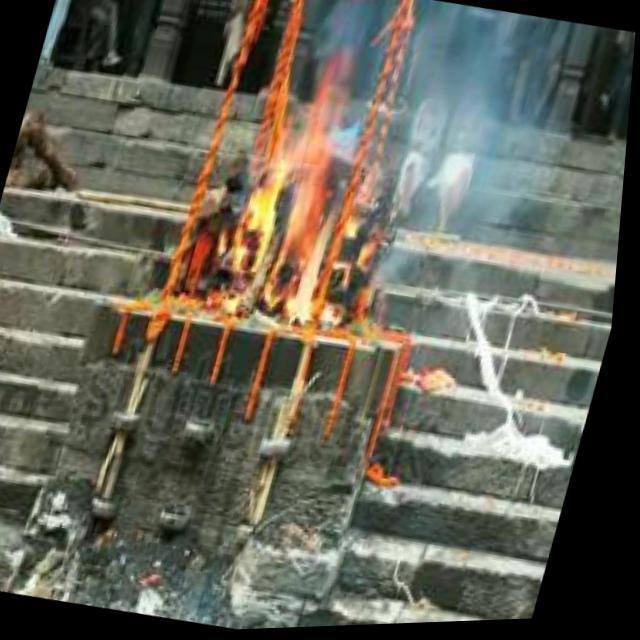Fire: (228, 68, 397, 335)
